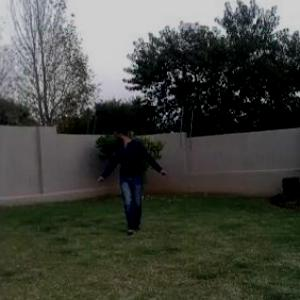land: (87, 113, 167, 240)
